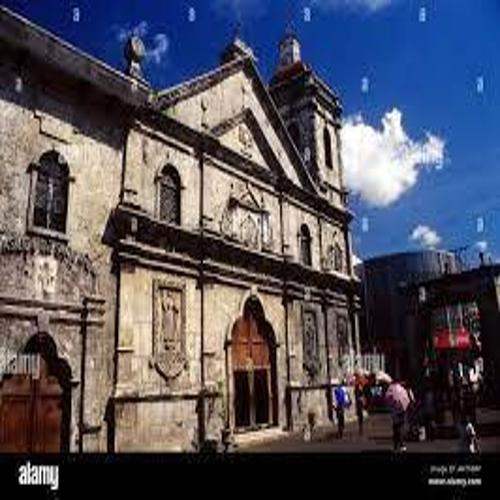Sto. Nino Basilica Church: (116, 20, 371, 450)
